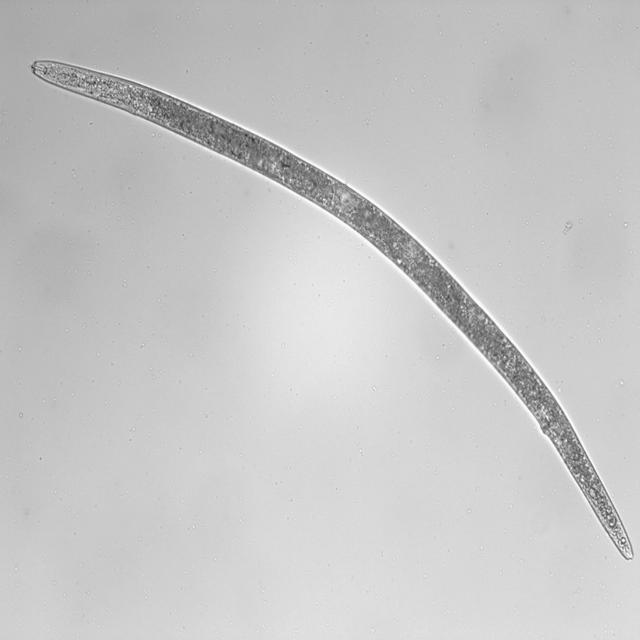Pratylenchus: (23, 56, 635, 564)
